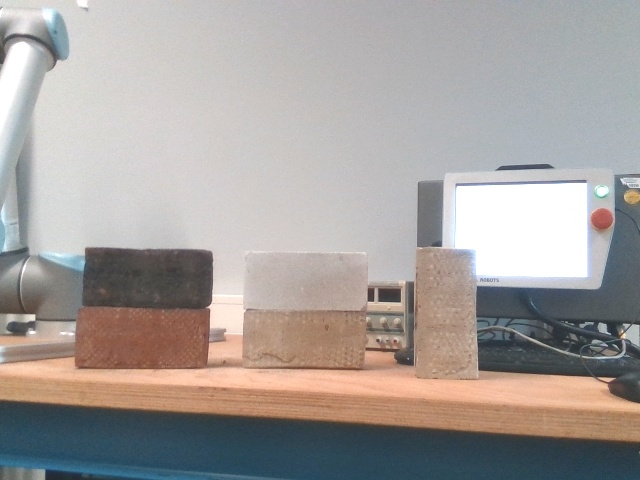brick: (77, 307, 209, 369), (414, 249, 476, 380), (83, 247, 213, 307), (244, 310, 365, 373), (243, 252, 368, 312)
